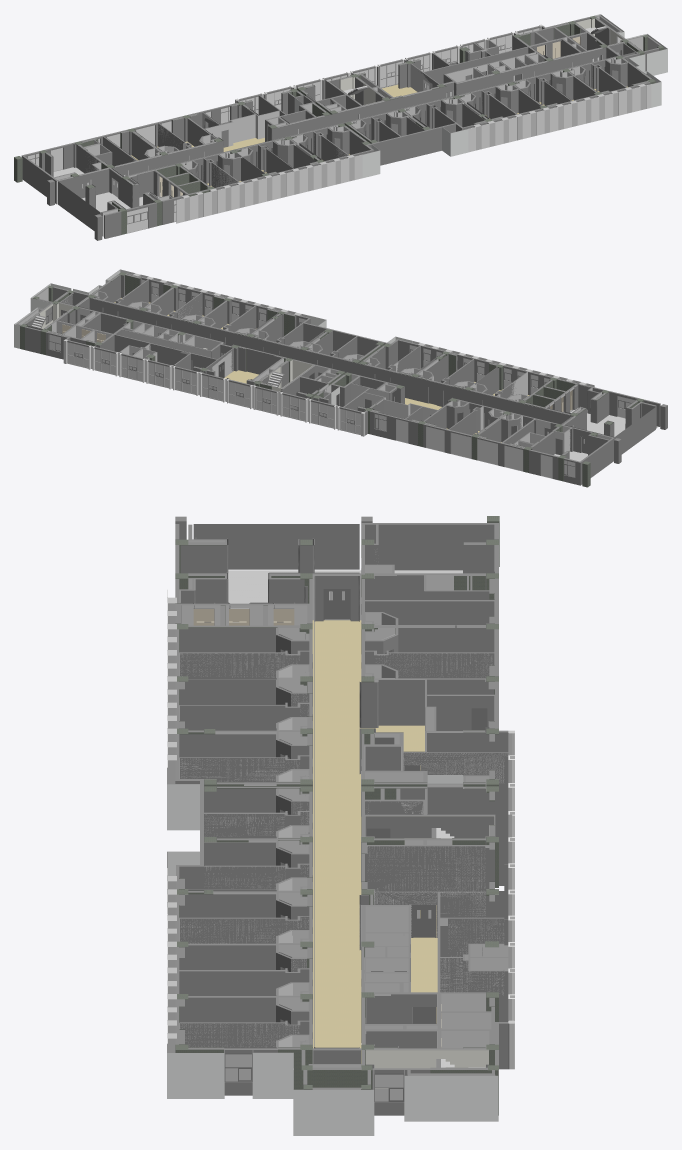
3 renders of one model, top to bottom at view 1: azimuth 30°, elevation 25°; view 2: azimuth 150°, elevation 25°; view 3: azimuth 270°, elevation 25°, orthographic. The views are drawn at different scales.
Parts seen in each view (by area): view 1: Walls, Curtain Panels, Curtain Wall Mullions, Structural Columns, Doors, Floors, Windows, Columns, Specialty Equipment; view 2: Walls, Curtain Panels, Structural Columns, Curtain Wall Mullions, Windows, Doors, Columns, Floors, Specialty Equipment; view 3: Walls, Floors, Curtain Panels, Structural Columns, Doors, Curtain Wall Mullions, Windows, Columns, Specialty Equipment.
Part boxes in pixels (x1=…): Walls: x1=21, y1=15, x2=661, y2=238; Curtain Panels: x1=51, y1=14, x2=667, y2=233; Curtain Wall Mullions: x1=182, y1=28, x2=645, y2=221; Structural Columns: x1=14, y1=15, x2=663, y2=240; Doors: x1=80, y1=50, x2=621, y2=198; Floors: x1=53, y1=84, x2=627, y2=236; Windows: x1=28, y1=37, x2=621, y2=224; Columns: x1=235, y1=24, x2=542, y2=103; Specialty Equipment: x1=159, y1=36, x2=580, y2=197; Walls: x1=16, y1=273, x2=660, y2=485; Curtain Panels: x1=14, y1=269, x2=634, y2=478; Structural Columns: x1=20, y1=272, x2=667, y2=487; Curtain Wall Mullions: x1=67, y1=273, x2=586, y2=434; Windows: x1=45, y1=286, x2=631, y2=477; Doors: x1=61, y1=307, x2=587, y2=453; Columns: x1=63, y1=339, x2=365, y2=436; Floors: x1=100, y1=298, x2=658, y2=461; Specialty Equipment: x1=62, y1=324, x2=572, y2=411; Walls: x1=175, y1=523, x2=511, y2=1115; Floors: x1=228, y1=570, x2=462, y2=1063; Curtain Panels: x1=167, y1=589, x2=498, y2=1135; Structural Columns: x1=175, y1=516, x2=499, y2=1115; Doors: x1=280, y1=558, x2=487, y2=1047; Curtain Wall Mullions: x1=167, y1=597, x2=176, y2=1052; Windows: x1=224, y1=1053, x2=404, y2=1102; Columns: x1=508, y1=730, x2=514, y2=1069; Specialty Equipment: x1=193, y1=609, x2=441, y2=1047.
Bounding box in the file's own units: 85.5 × 3.2 × 21.89.
25 materials, 4 textured.
